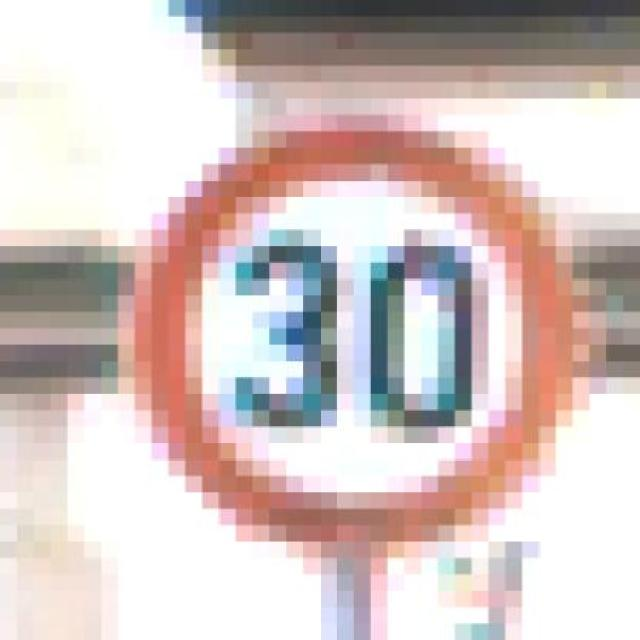Speed Limit 30 KMPh: (51, 98, 623, 574)
